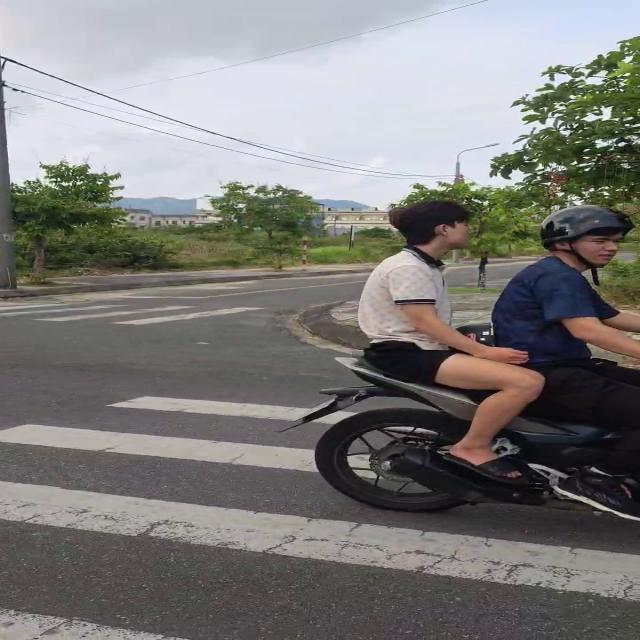helmet: (535, 200, 626, 275)
no_helmet: (391, 200, 470, 243)
